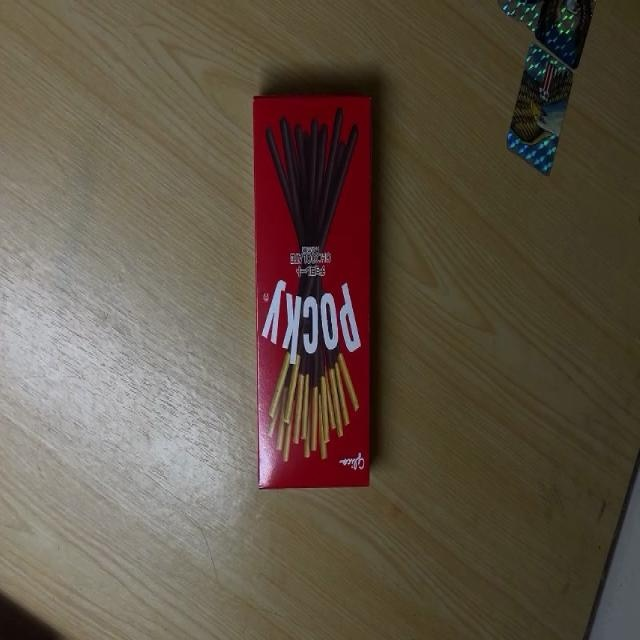Pocky: (254, 91, 372, 485)
